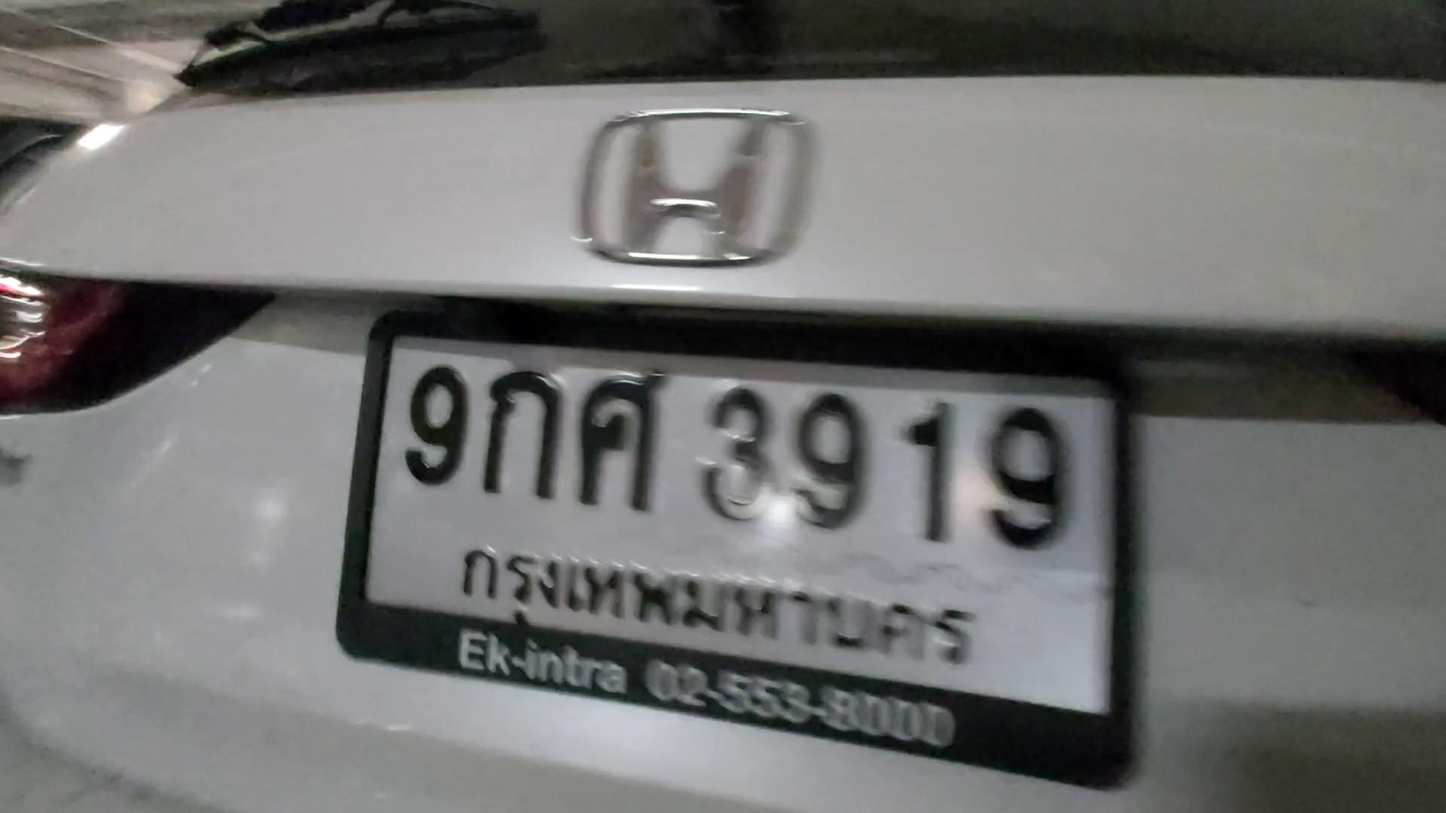license-plate: (377, 330, 1123, 716)
